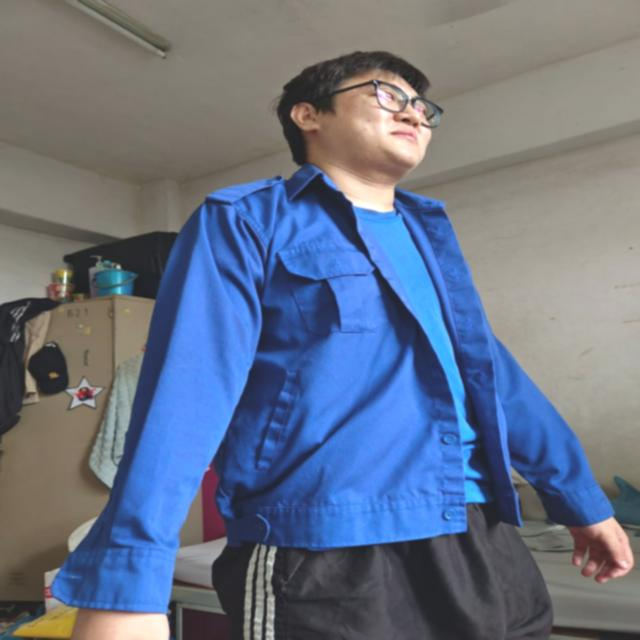person_with_labcoat: (53, 52, 633, 640)
